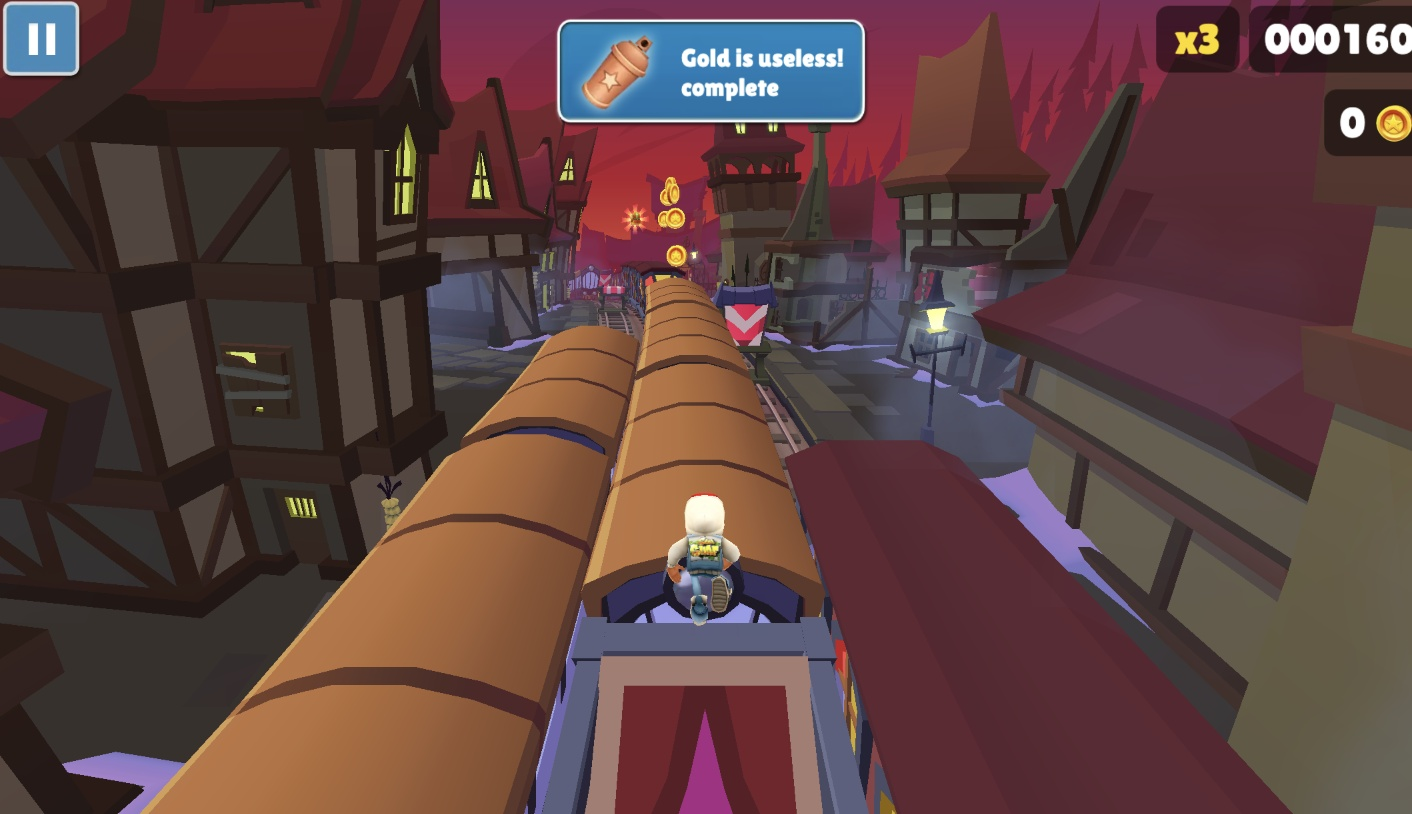ground_barrier: (600, 285, 629, 314)
overhead_barrier: (715, 284, 786, 371)
train: (135, 328, 638, 814), (783, 439, 1293, 814), (527, 278, 880, 814), (617, 267, 683, 316), (574, 267, 609, 300)
